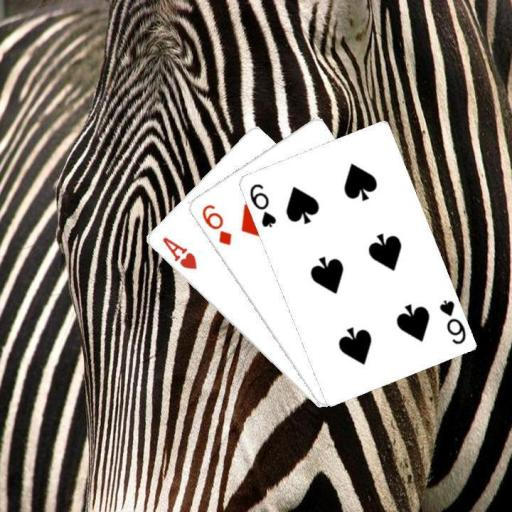card-corner: (198, 200, 233, 246), (435, 296, 467, 346), (158, 233, 198, 272), (246, 180, 277, 229)
